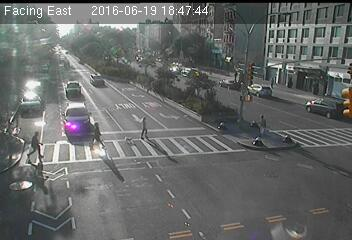neg: (307, 168, 332, 201), (216, 93, 239, 124), (36, 94, 56, 120), (242, 201, 258, 222), (61, 115, 76, 134), (73, 73, 87, 92), (121, 88, 134, 106), (295, 88, 308, 105), (183, 89, 195, 106)
pos: (23, 129, 47, 160), (86, 119, 107, 147), (132, 112, 152, 139), (255, 112, 274, 137), (268, 74, 279, 90)
